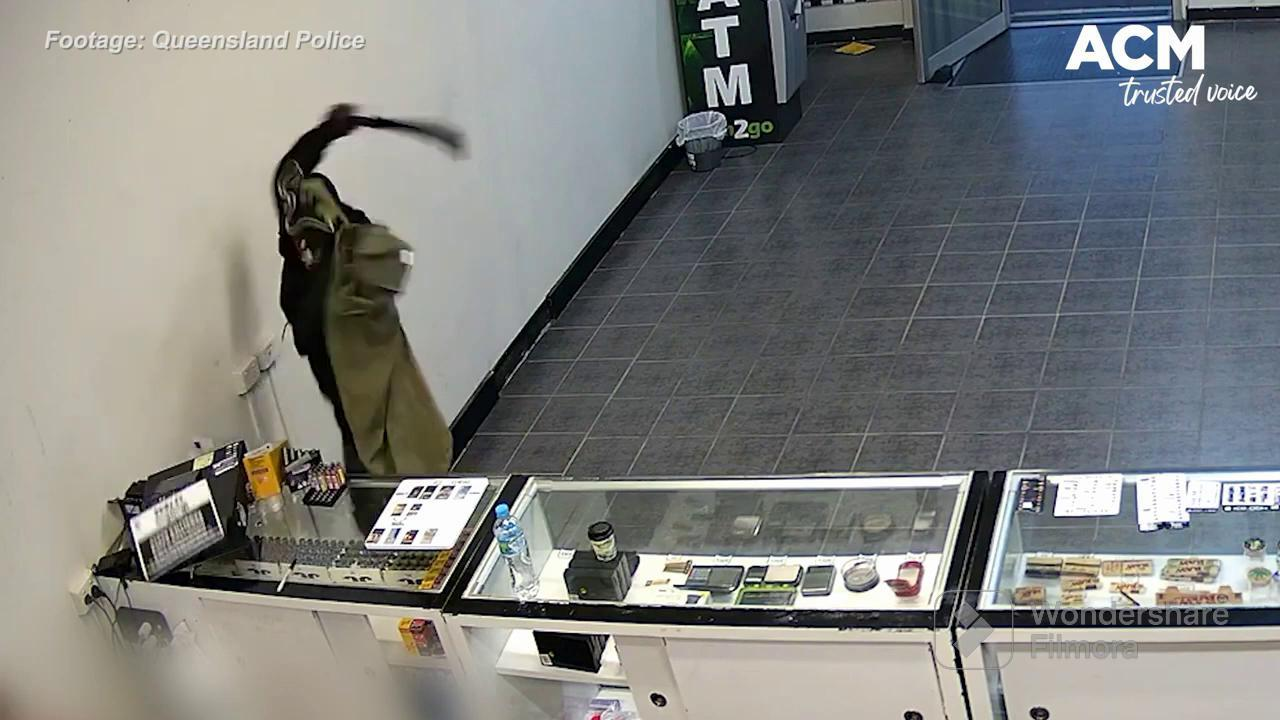melee: (340, 102, 476, 162)
